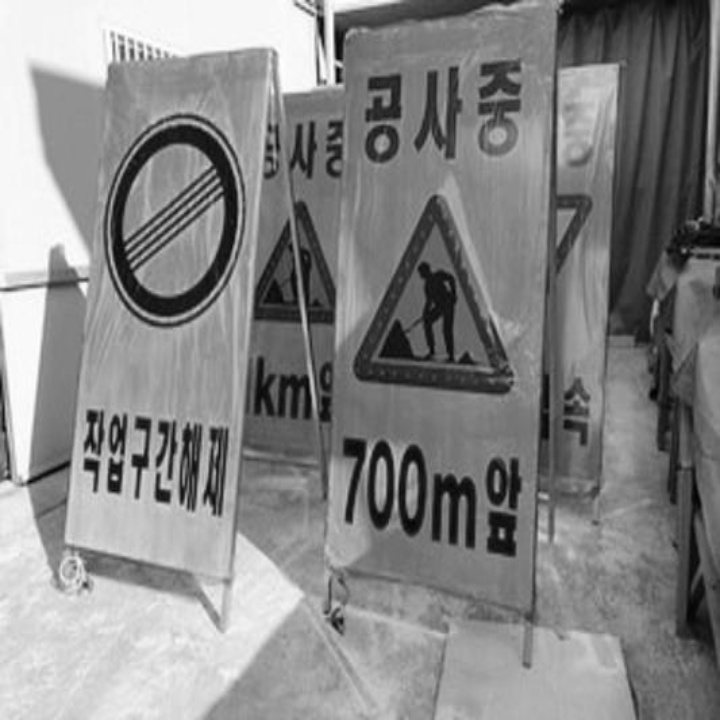const: (380, 245, 498, 370)
